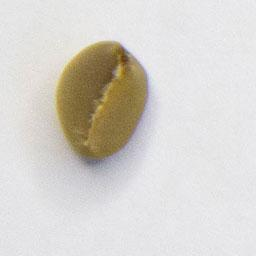premium: (52, 35, 151, 163)
